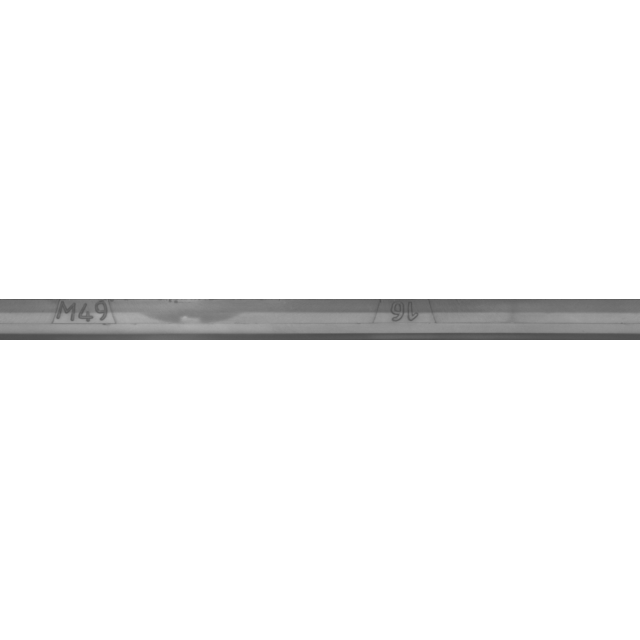mohao: (0, 270, 179, 370)
xuehao: (304, 270, 504, 370)
